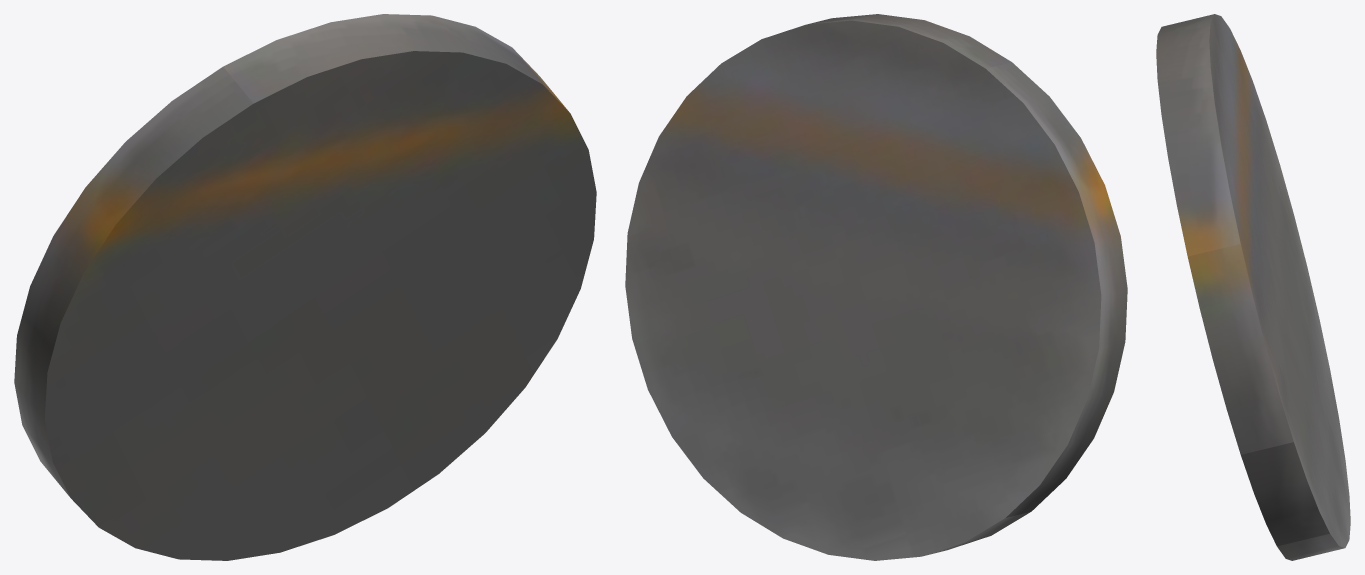
File: cabinet__action_button_guide_0_1.glb
3 views of the same model, side by side, from view 1: azimuth 30°, elevation 25°; view 2: azimuth 150°, elevation 25°; view 3: azimuth 270°, elevation 25° (orthographic). The views are drawn at different scales.
Parts seen in each view (by area): view 1: geometry_0; view 2: geometry_0; view 3: geometry_0.
Part boxes in pixels (<box>): geometry_0: <box>14,14,596,560</box>; geometry_0: <box>625,14,1127,560</box>; geometry_0: <box>1156,14,1350,560</box>.
Size of the model in its own units: 0.04 by 0.0397 by 0.0141.
1 material, 1 textured.
